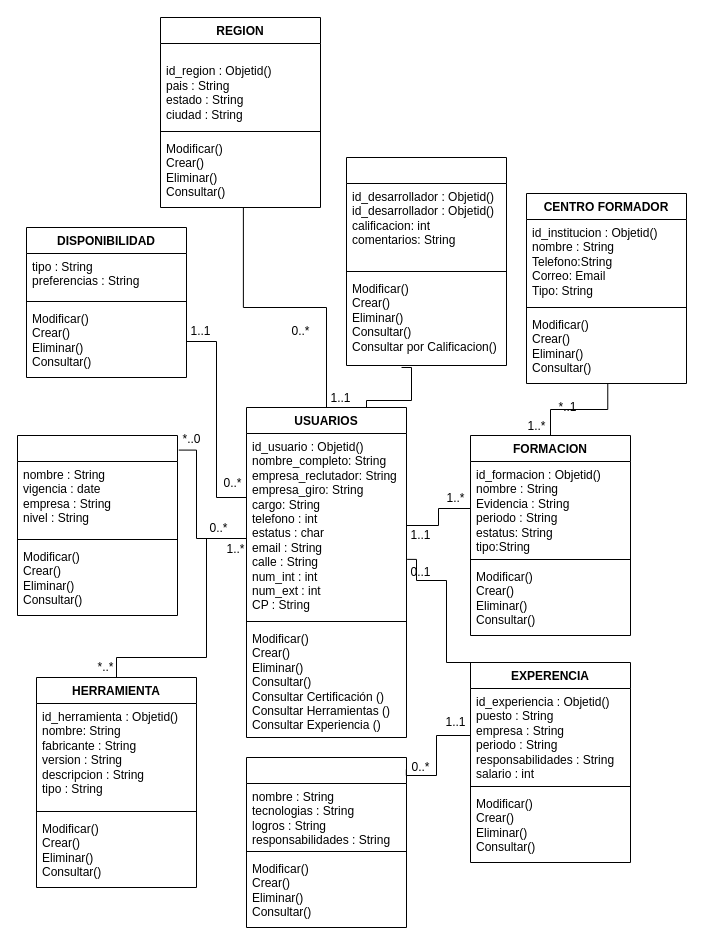
Some shapes in this 704 by 948 pixel diagram are drawn without their labels. Each missing label, with the box of its shape:
CERTIFICACIONES: (16, 434, 178, 616)
FAVORITOS: (346, 156, 506, 366)
PROYECTOS: (246, 756, 406, 928)
